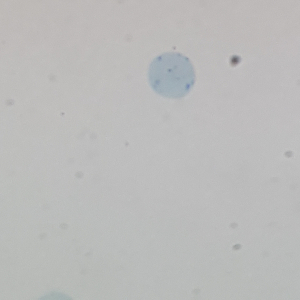punctate reticulocyte: (146, 50, 197, 100)
